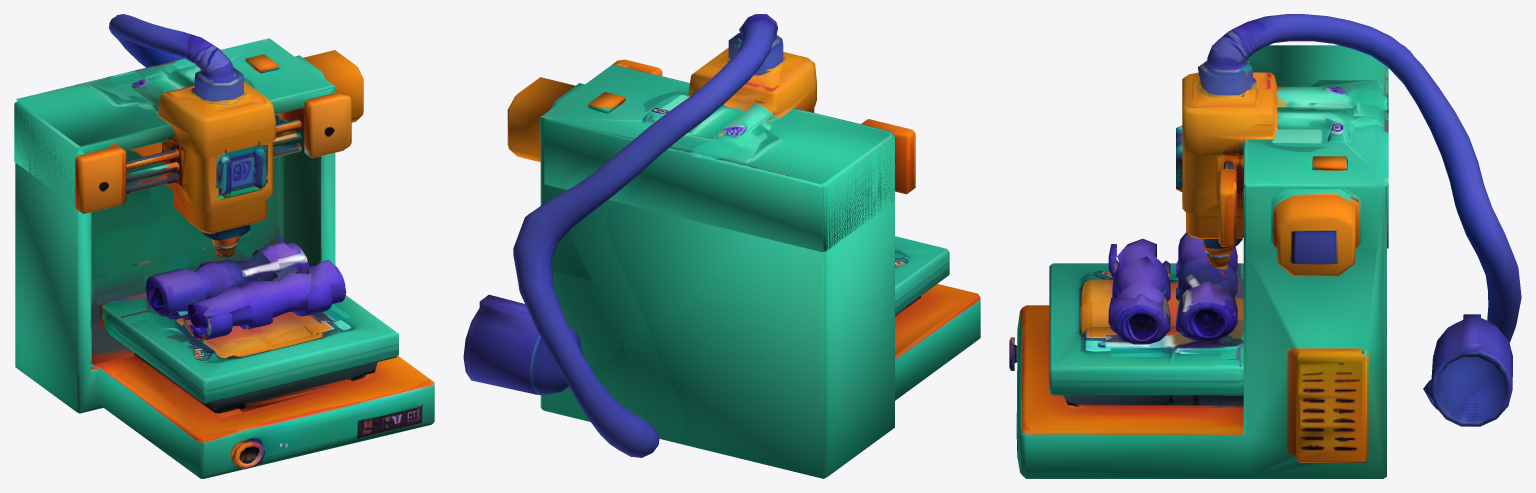
The picture shows the model from 3 angles, left to right: view 1: azimuth 30°, elevation 25°; view 2: azimuth 150°, elevation 25°; view 3: azimuth 270°, elevation 25°; orthographic projection. The views are drawn at different scales.
Visible parts, largest first — view 1: texture_v100.001; view 2: texture_v100.001; view 3: texture_v100.001.
Boxes of the visible parts, x1,y1,x2,y2 form: texture_v100.001: [14, 14, 434, 478]; texture_v100.001: [463, 14, 980, 478]; texture_v100.001: [1009, 14, 1521, 478].
Size of the model in its own units: 1.47 by 1.57 by 1.9.
1 material, 1 textured.
